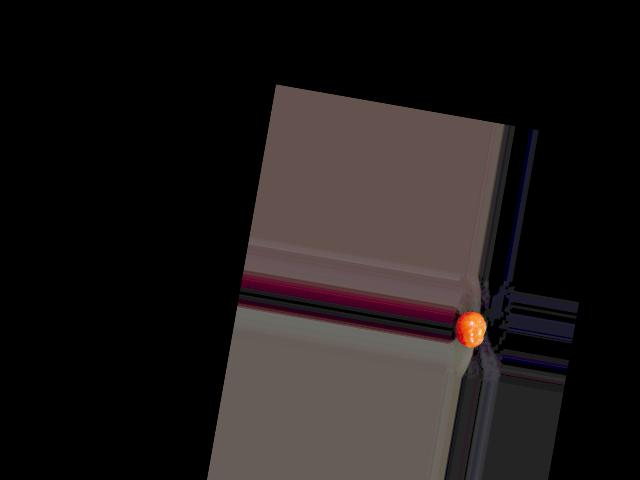tomato: (452, 308, 488, 349)
